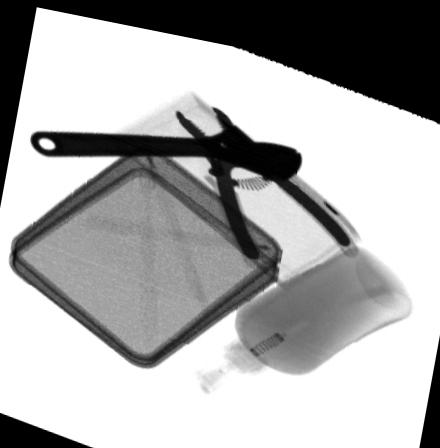Pliers: (173, 96, 361, 250)
Wrench: (28, 115, 305, 171)
